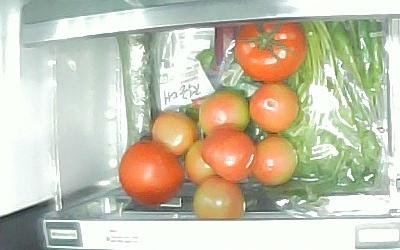tomato: (120, 140, 184, 209), (237, 21, 308, 83), (202, 124, 254, 182), (248, 81, 301, 134), (253, 136, 298, 188), (199, 89, 250, 133), (195, 176, 245, 220), (151, 108, 196, 155), (185, 139, 222, 183)
